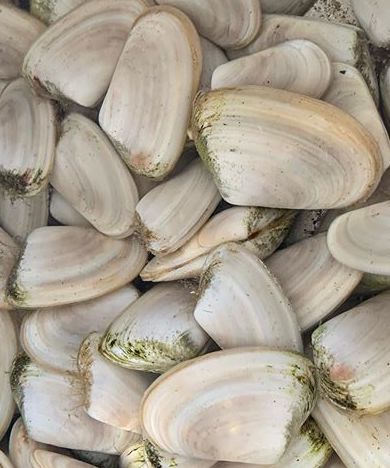tuatua: (192, 84, 386, 212), (135, 346, 323, 466), (97, 5, 194, 181), (22, 1, 152, 110), (9, 348, 133, 457), (190, 238, 302, 352), (44, 110, 139, 243), (6, 223, 147, 308), (99, 280, 218, 372), (311, 287, 390, 417), (266, 233, 364, 328), (137, 158, 218, 259), (75, 330, 147, 438), (1, 75, 53, 207), (327, 200, 390, 280)
